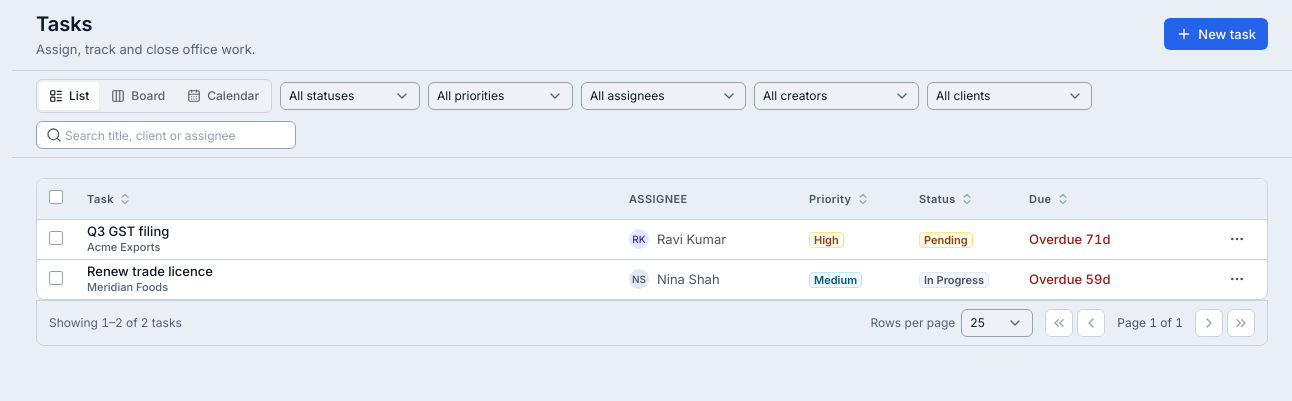
TaskList — filters do not crash the page › changing the status filter neither throws nor logs
The image size is (1292, 401).
Check: the text "Q3 GST filing" is shown, box x1=87 y1=223 x2=169 y2=239
Select "Completed" in the dropdown named "Filter by status": (350, 96) x1=280 y1=82 x2=420 y2=110
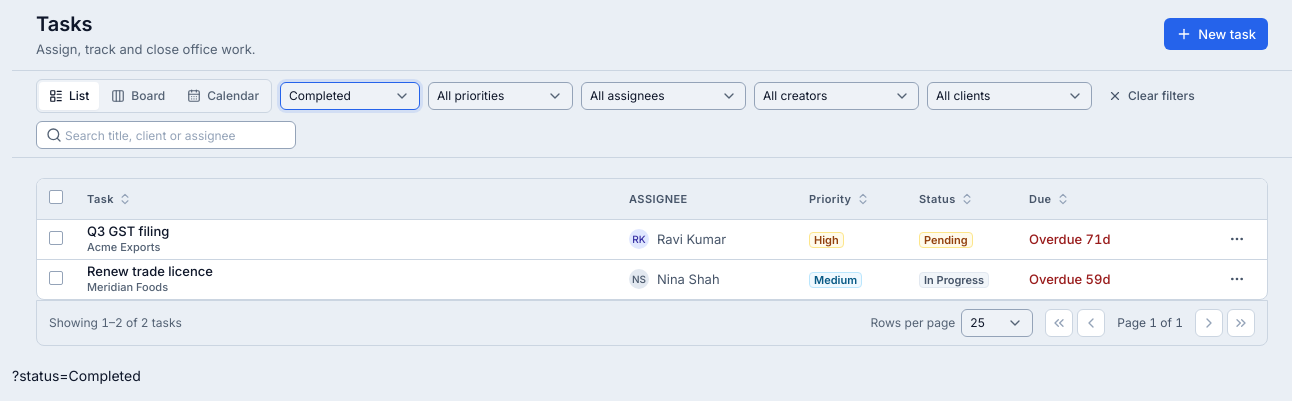
Check: the text with test id "query-string" shows "status=Completed", box x1=12 y1=367 x2=141 y2=384
